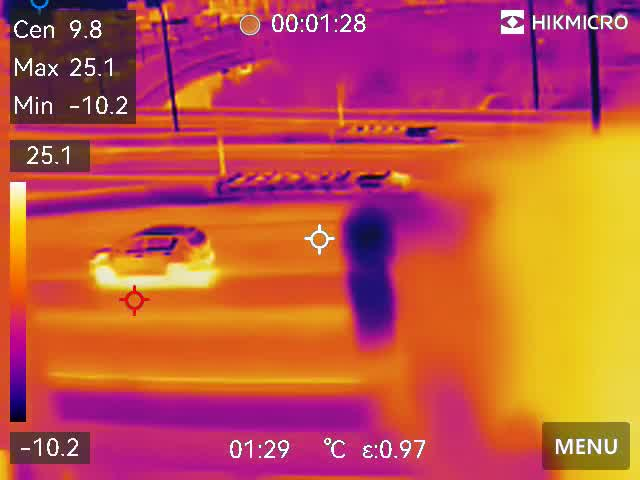largeCar: (80, 223, 225, 280)
